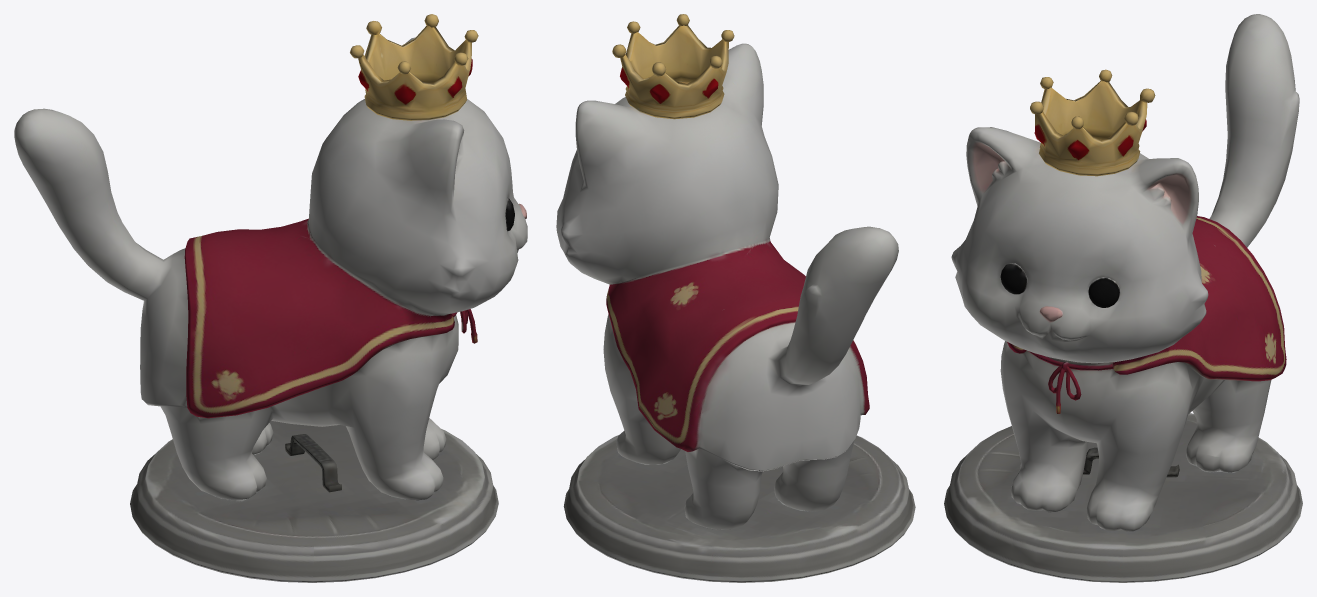
File: figurine-v2-bin-king.glb
3 renders of one model, left to right at view 1: azimuth 30°, elevation 25°; view 2: azimuth 150°, elevation 25°; view 3: azimuth 270°, elevation 25°, orthographic. The views are drawn at different scales.
Parts seen in each view (by area): view 1: tripo_node_8ebf95a5-96af-480c-956e-b120c6639289; view 2: tripo_node_8ebf95a5-96af-480c-956e-b120c6639289; view 3: tripo_node_8ebf95a5-96af-480c-956e-b120c6639289.
Part boxes in pixels (bbox=[...]): tripo_node_8ebf95a5-96af-480c-956e-b120c6639289: bbox=[14, 14, 527, 582]; tripo_node_8ebf95a5-96af-480c-956e-b120c6639289: bbox=[556, 14, 915, 582]; tripo_node_8ebf95a5-96af-480c-956e-b120c6639289: bbox=[944, 14, 1302, 582].
Size of the model in its own units: 0.9258 by 0.9995 by 0.7132.
Materials: 1 (1 with a texture image).
